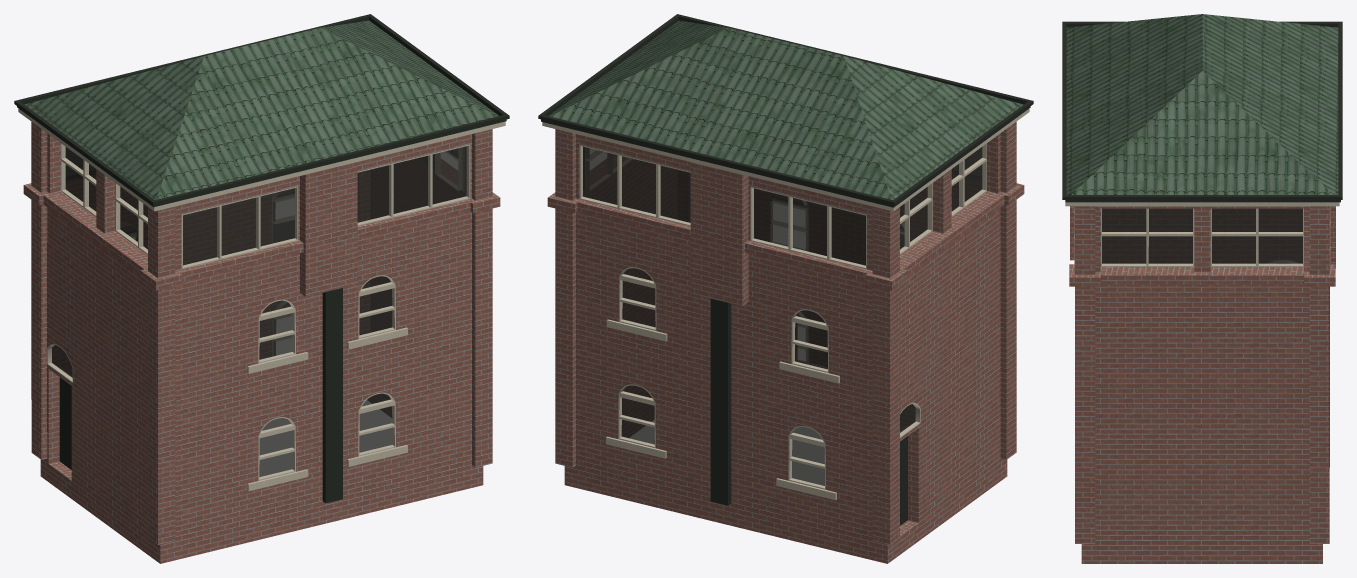
File: StationBuilding-A.fbx
The picture shows the model from 3 angles, left to right: view 1: azimuth 30°, elevation 25°; view 2: azimuth 150°, elevation 25°; view 3: azimuth 270°, elevation 25°; orthographic projection.
Visible parts, largest first — view 1: StationBuilding-A; view 2: StationBuilding-A; view 3: StationBuilding-A.
Part boxes in pixels (x1,y1,x2,y2): StationBuilding-A: (14,14,509,563); StationBuilding-A: (538,14,1033,563); StationBuilding-A: (1062,14,1342,563).
Size of the model in its own units: 8.25 by 9.7 by 5.57.
